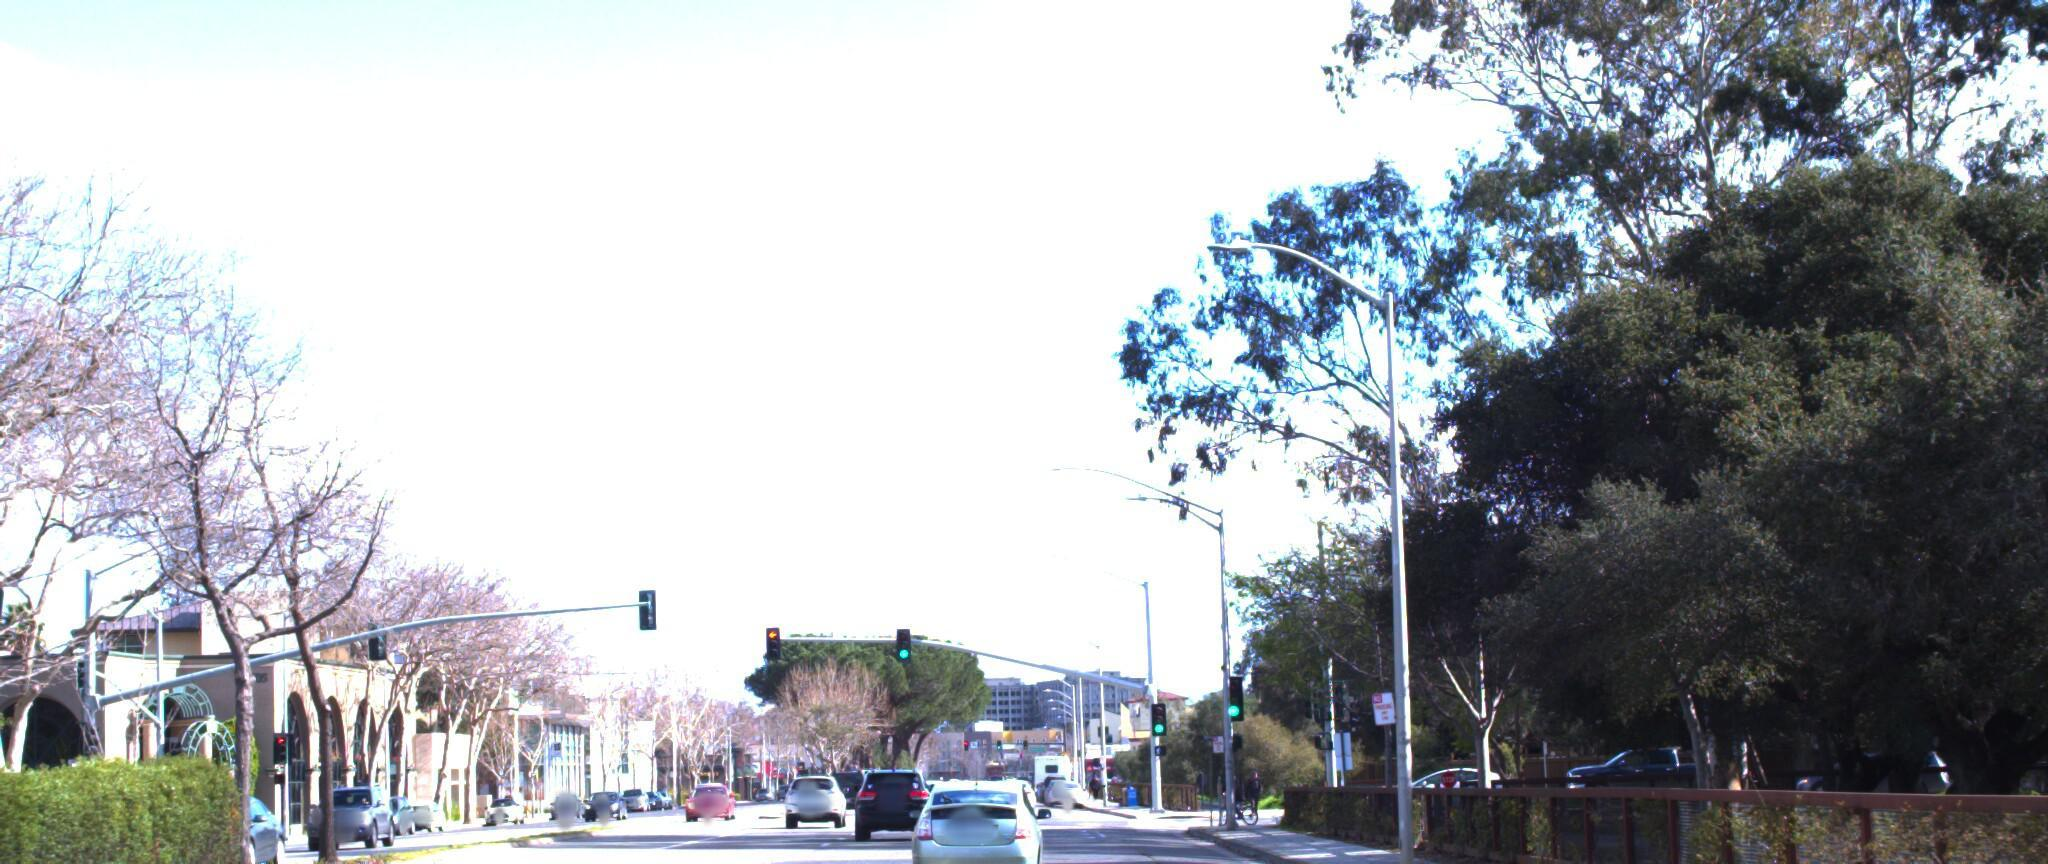car: (891, 773, 1034, 864), (841, 762, 927, 837)
